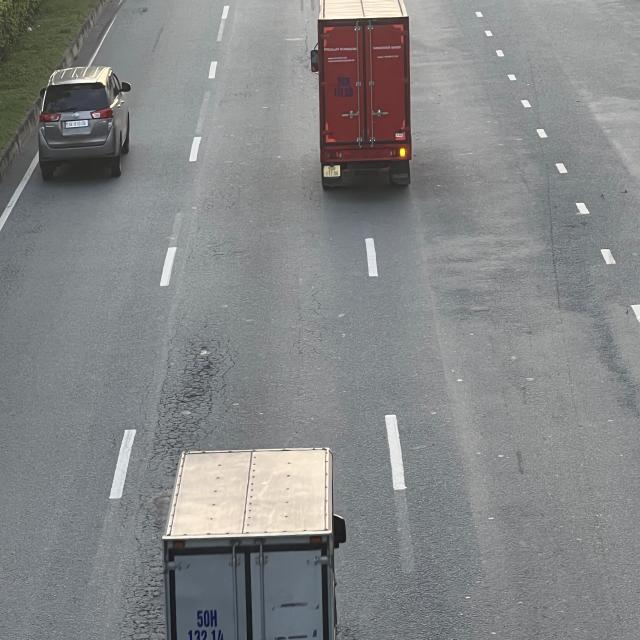car: (36, 68, 132, 180)
truck: (166, 449, 348, 640), (310, 0, 416, 195)
